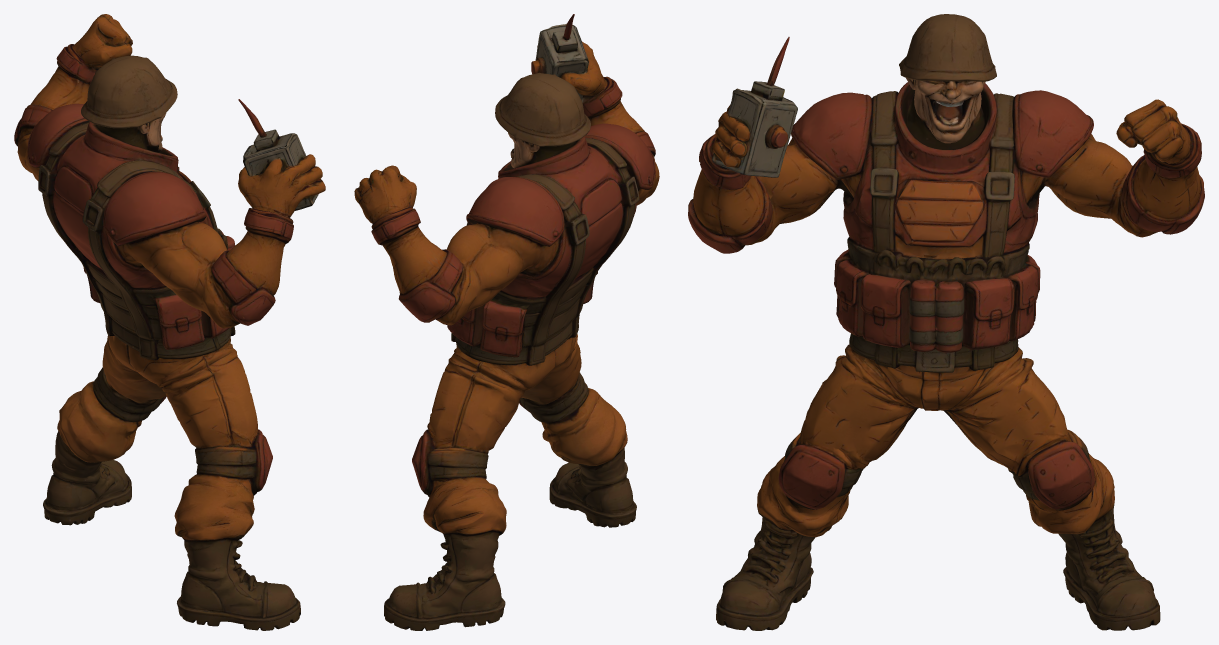
File: wrecker (1).glb
The picture shows the model from 3 angles, left to right: view 1: azimuth 30°, elevation 25°; view 2: azimuth 150°, elevation 25°; view 3: azimuth 270°, elevation 25°; orthographic projection. The views are drawn at different scales.
Parts seen in each view (by area): view 1: tripo_node_919677cd-bae6-4de8-bea3-b9da5b19958c; view 2: tripo_node_919677cd-bae6-4de8-bea3-b9da5b19958c; view 3: tripo_node_919677cd-bae6-4de8-bea3-b9da5b19958c.
Boxes of the visible parts, x1,y1,x2,y2 form: tripo_node_919677cd-bae6-4de8-bea3-b9da5b19958c: [14, 14, 325, 630]; tripo_node_919677cd-bae6-4de8-bea3-b9da5b19958c: [354, 14, 659, 630]; tripo_node_919677cd-bae6-4de8-bea3-b9da5b19958c: [688, 14, 1204, 630].
Size of the model in its own units: 0.3427 by 1 by 0.8106.
1 material, 1 textured.
